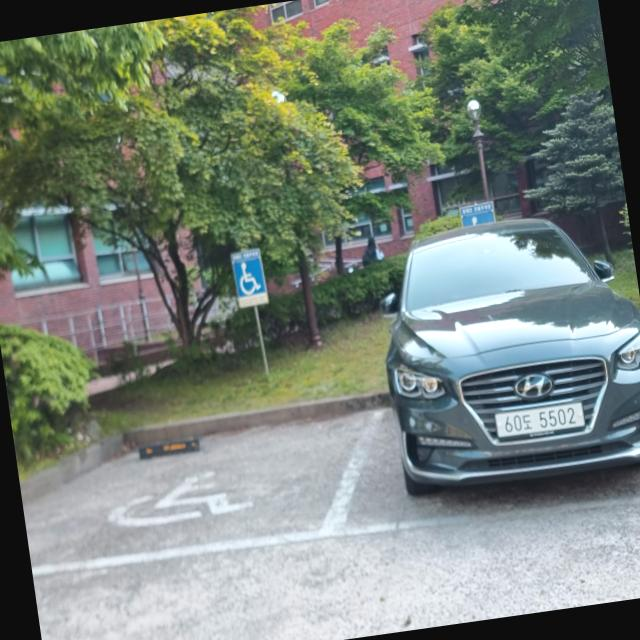car: (365, 199, 640, 536)
free: (30, 403, 372, 553)
